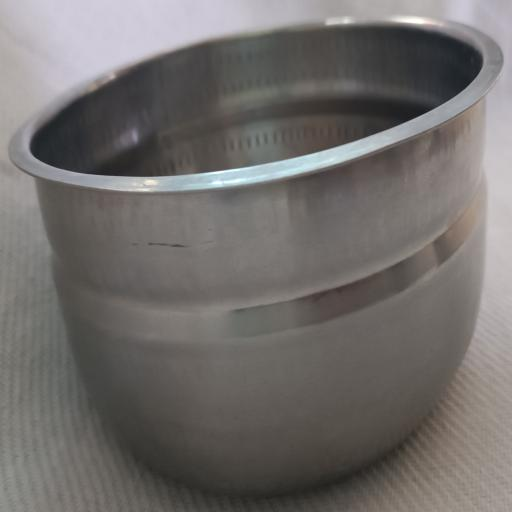vessel: (10, 17, 502, 494)
